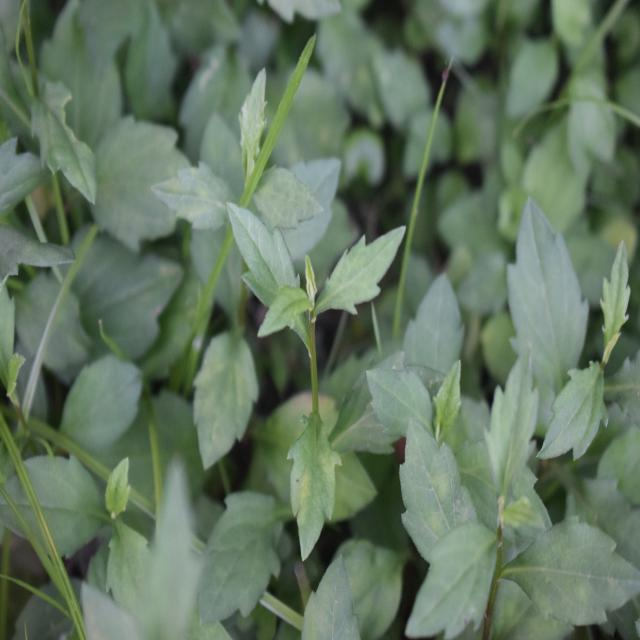Indian aster: (222, 184, 394, 592), (392, 380, 628, 631)
